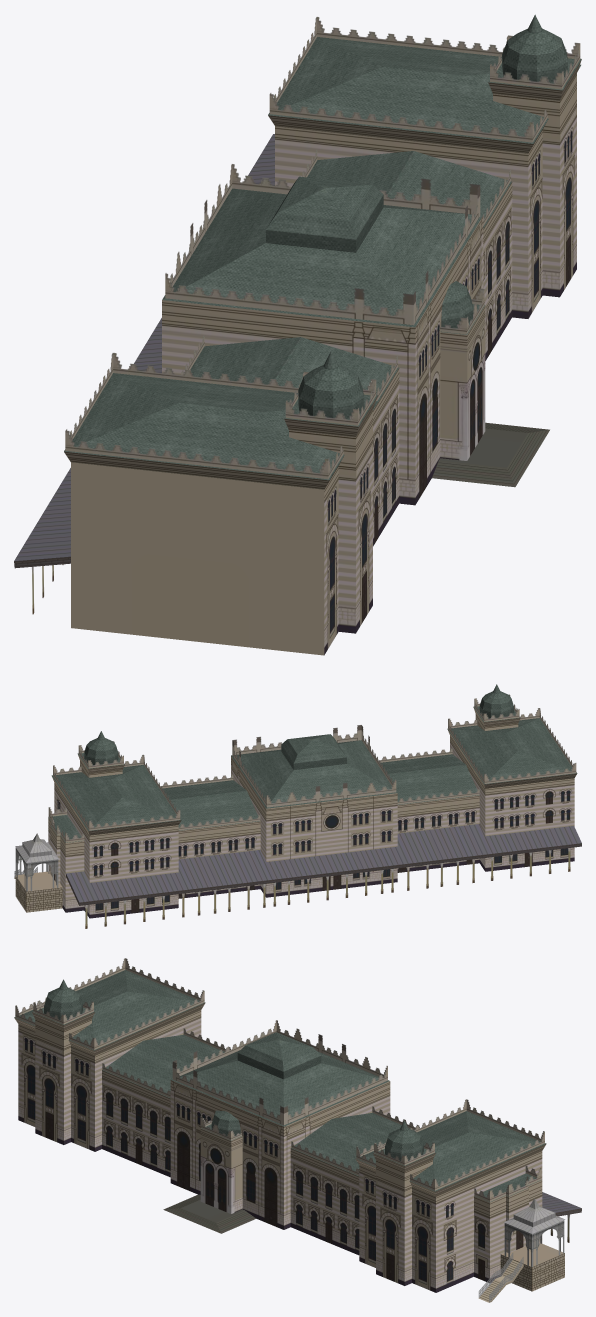
The picture shows the model from 3 angles, top to bottom: view 1: azimuth 30°, elevation 25°; view 2: azimuth 150°, elevation 25°; view 3: azimuth 270°, elevation 25°; orthographic projection. The views are drawn at different scales.
Parts seen in each view (by area): view 1: S; view 2: S; view 3: S.
Part boxes in pixels (x1,y1,x2,y2): S: (14,14,581,655); S: (14,684,581,928); S: (14,958,581,1302).
Bounding box in the file's own units: 84.45 × 25.4 × 84.9.
1 material, 1 textured.
